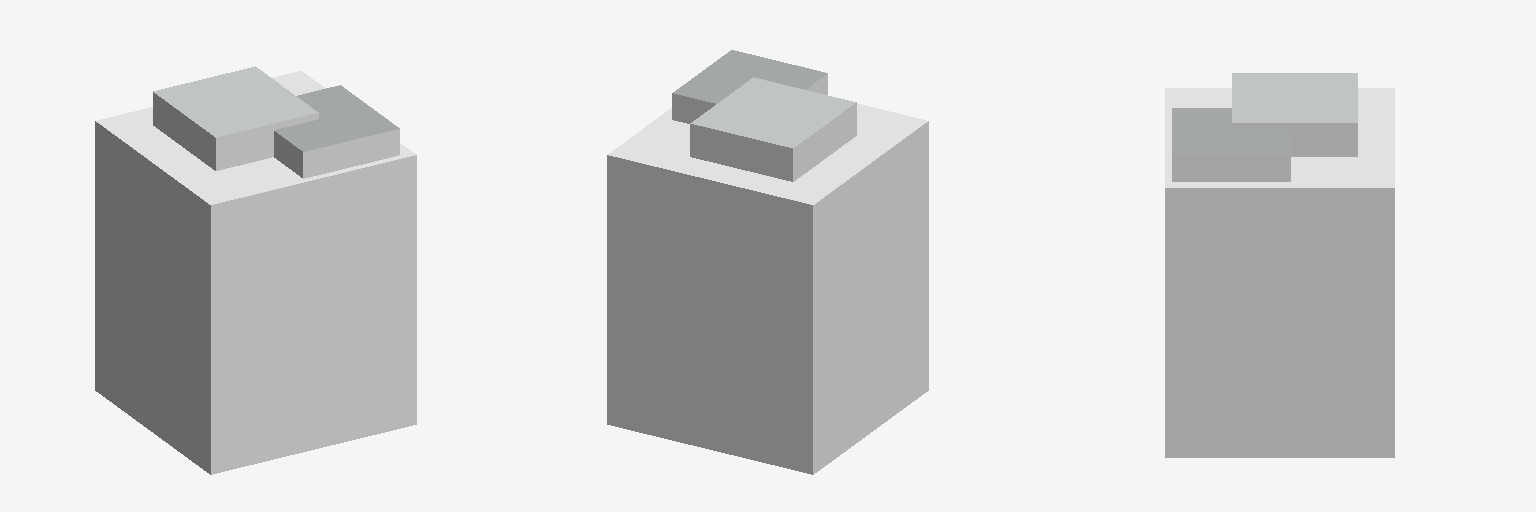
3 views of the same model, side by side, from view 1: azimuth 30°, elevation 25°; view 2: azimuth 150°, elevation 25°; view 3: azimuth 270°, elevation 25° (orthographic).
Parts seen in each view (by area): view 1: cube; view 2: cube; view 3: cube.
Part boxes in pixels (bbox=[...]): cube: bbox=[95, 66, 416, 474]; cube: bbox=[607, 50, 928, 474]; cube: bbox=[1165, 73, 1394, 457].
Size of the model in its own units: 1 by 1.41 by 0.97.
Materials: 1 (1 with a texture image).